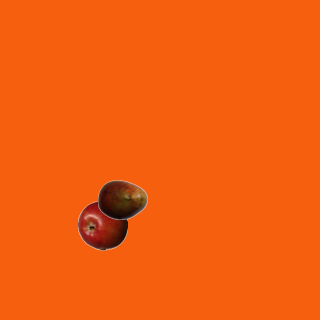Apple Braeburn: (77, 200, 127, 250)
Mango Red: (97, 174, 147, 224)
